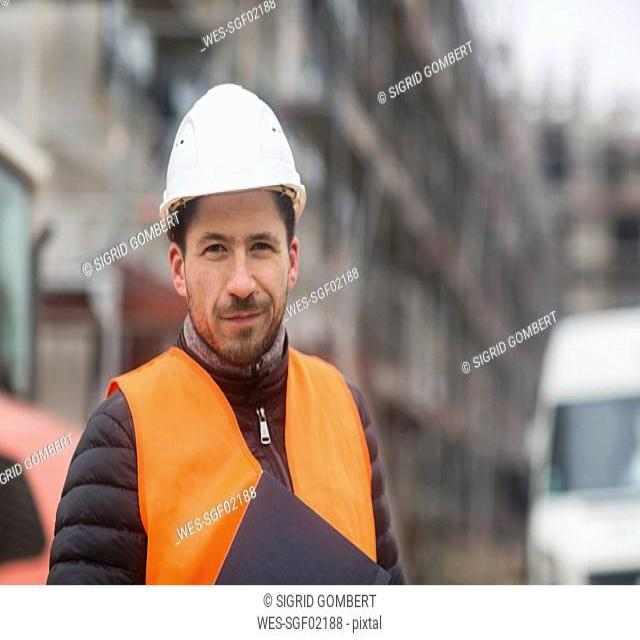helmet: (133, 71, 317, 238)
no-goggles: (162, 198, 314, 290)
vest: (100, 318, 398, 585)
